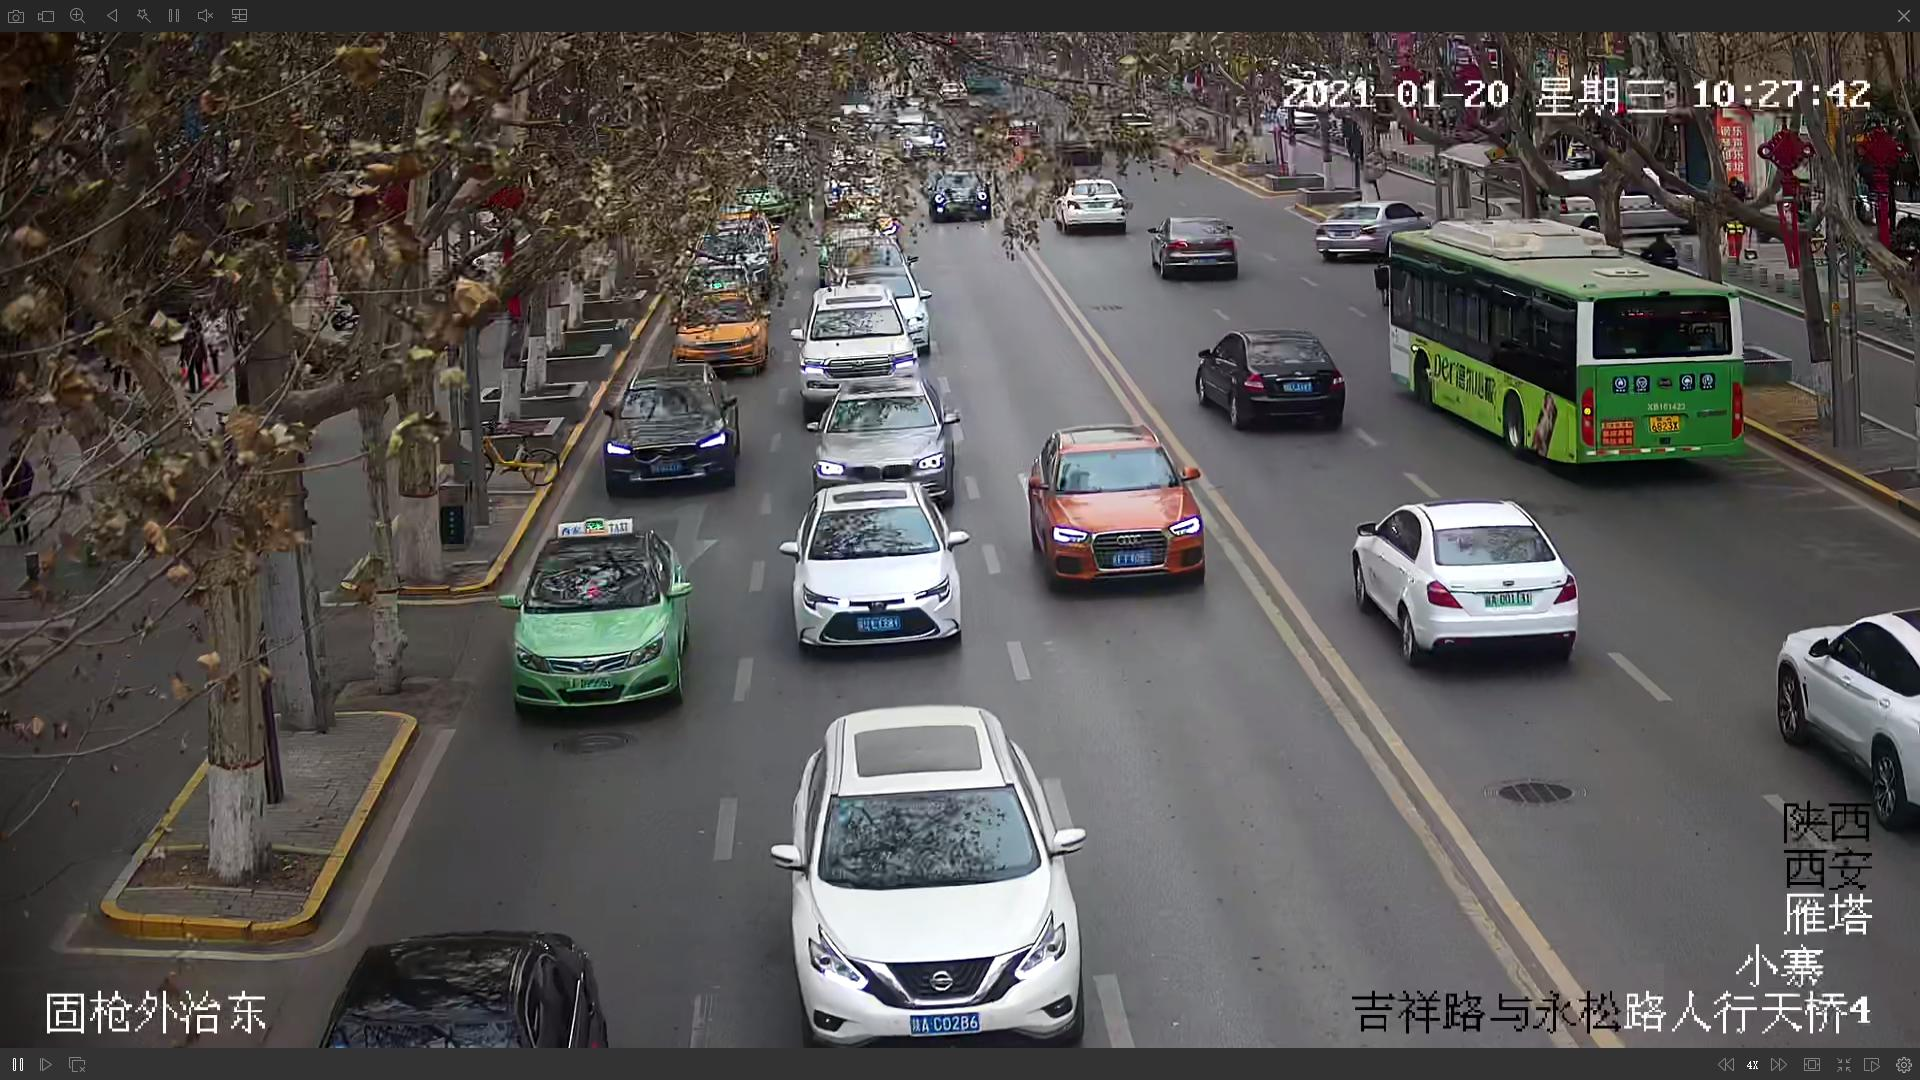dark-orange: (1025, 419, 1203, 593)
grass-green: (504, 520, 683, 702)
white: (774, 717, 1083, 1034), (782, 484, 963, 651)
